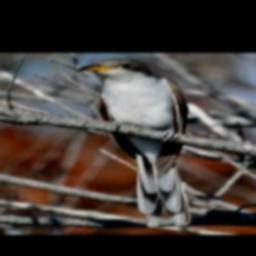Cuckoo: (78, 58, 190, 225)
